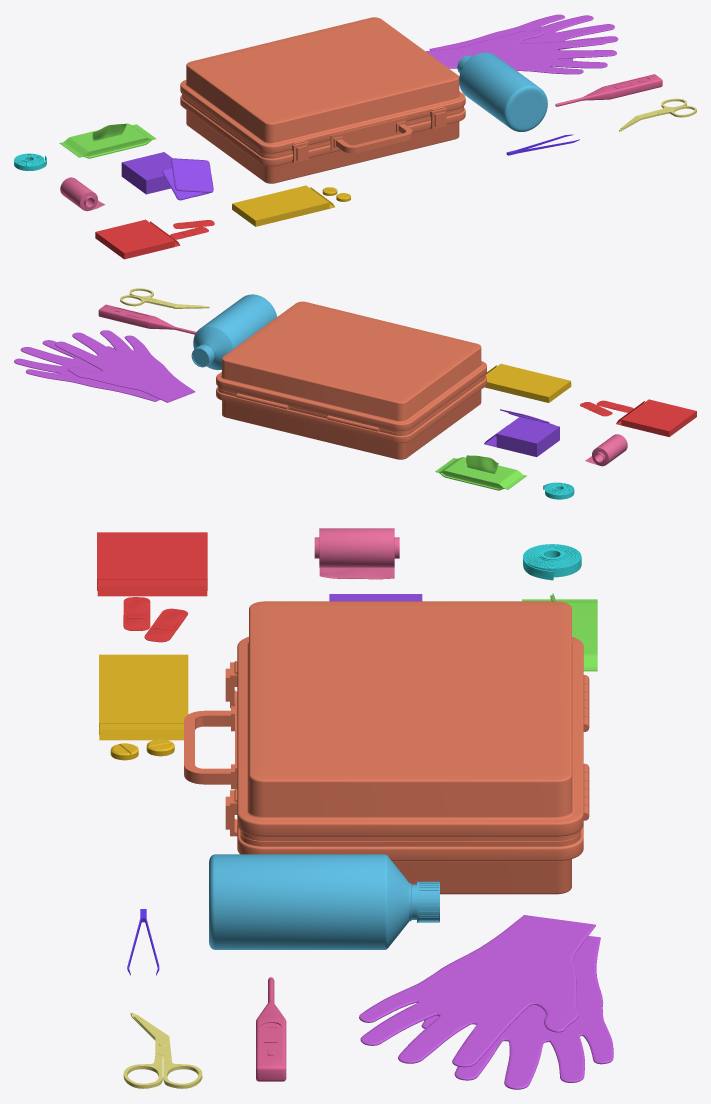
The model's file is (UNUSED)tools_batch.fbx.
The picture shows the model from 3 angles, top to bottom: view 1: azimuth 30°, elevation 25°; view 2: azimuth 150°, elevation 25°; view 3: azimuth 270°, elevation 25°; orthographic projection. The views are drawn at different scales.
Parts seen in each view (by area): view 1: case top, case bottom, bottle, glove.001, kotak aspirin, glove, kotak perban, alcohol wipe, kotak kasa, kasa.011, thermometer, opener.003 (+4 smaller); view 2: case top, case bottom, glove.001, bottle, glove, kotak aspirin, kotak kasa, kotak perban, alcohol wipe, thermometer, roll, engsel (+4 smaller); view 3: case top, bottle, glove.001, case bottom, glove, kotak aspirin, kotak perban, roll, opener.002, thermometer, alcohol wipe, Circle.001 (+5 smaller).
Part boxes in pixels (x1,y1,x2,y2): case top: (180,17,465,155); case bottom: (180,95,465,183); bottle: (459,52,547,131); glove.001: (426,30,616,74); kotak aspirin: (232,185,329,226); glove: (429,14,618,60); kotak perban: (95,219,174,259); alcohol wipe: (59,123,156,158); kotak kasa: (121,152,172,194); kasa.011: (171,158,213,192); thermometer: (555,74,662,106); opener.003: (330,117,406,150); case top: (216,301,486,433); case bottom: (216,375,486,459); glove.001: (55,330,195,402); bottle: (193,294,276,369); glove: (14,340,159,401); kotak aspirin: (484,364,571,402); kotak kasa: (496,417,559,456); kotak perban: (621,399,696,436); alcohol wipe: (435,457,526,490); thermometer: (98,304,196,334); roll: (592,434,627,466); engsel: (236,393,379,431); case top: (237,601,583,840); bottle: (209,854,416,949); glove.001: (359,915,595,1067); case bottom: (237,825,583,894); glove: (421,936,613,1089); kotak aspirin: (99,654,188,734); kotak perban: (97,532,207,590); roll: (314,528,399,567); opener.002: (184,706,234,789); thermometer: (256,977,286,1081); alcohol wipe: (522,599,597,671); Circle.001: (523,544,581,577).
Bounding box in the file's own units: 0.6203 × 0.0612 × 0.2432.
